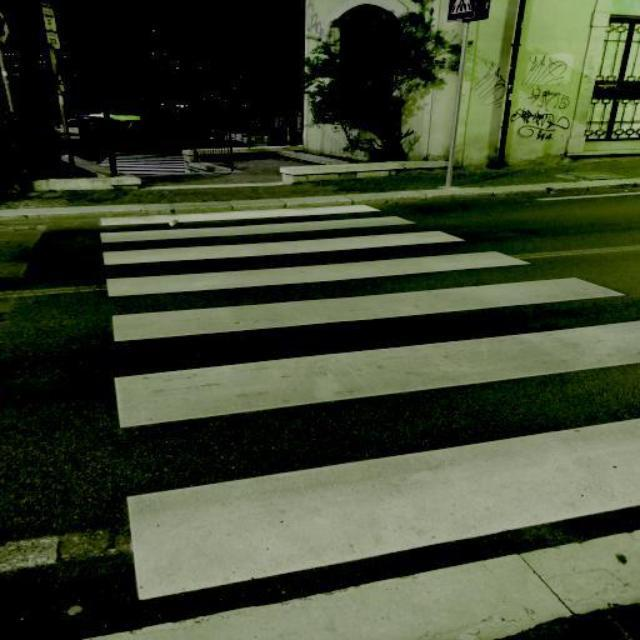sidewalk: (95, 199, 640, 640)
